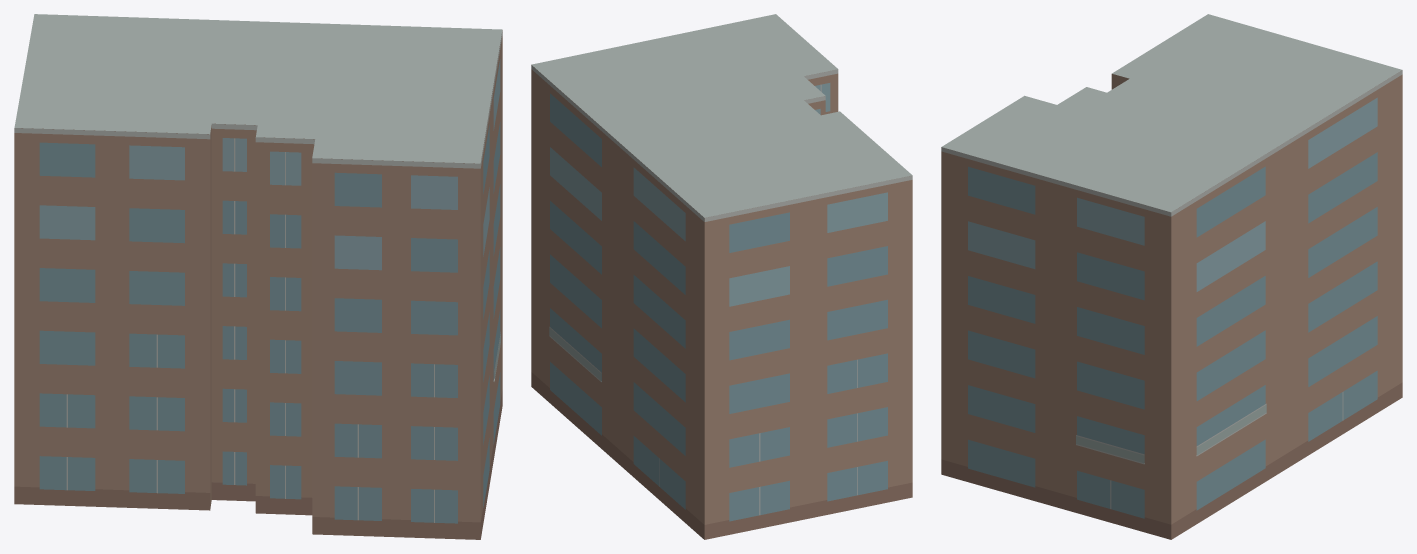
The model's file is survey-upis-32744714.glb.
3 views of the same model, side by side, from view 1: azimuth 30°, elevation 25°; view 2: azimuth 150°, elevation 25°; view 3: azimuth 270°, elevation 25° (orthographic). The views are drawn at different scales.
Visible parts, largest first — view 1: survey-upis-32744714.tmp; view 2: survey-upis-32744714.tmp; view 3: survey-upis-32744714.tmp.
Boxes of the visible parts, <box> form: survey-upis-32744714.tmp: <box>14,14,502,539</box>; survey-upis-32744714.tmp: <box>531,14,912,539</box>; survey-upis-32744714.tmp: <box>941,14,1402,539</box>.
Bounding box in the file's own units: 23.51 × 18.1 × 23.11.
